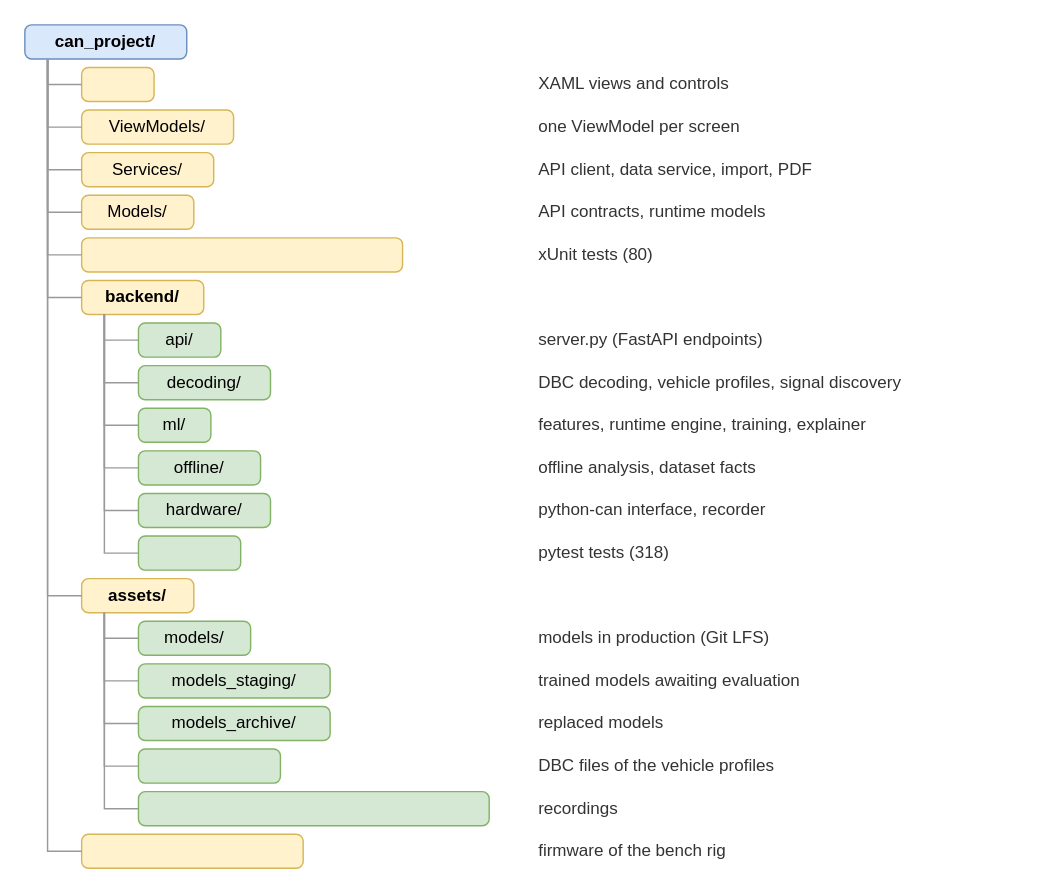
This 1044x893 diagram has some shape labels left out. Here are the shapes that lost their labels. From the top down, the box of each, then its label:
(80, 66, 154, 102): UI/
(80, 236, 403, 272): tests/CANvisionNative.Tests/
(137, 535, 241, 570): tests/
(137, 748, 280, 783): dbc_files/
(137, 790, 489, 826): EV-CANlogs-main/, road/, Train/
(80, 833, 303, 868): arduino_bench_rig/
